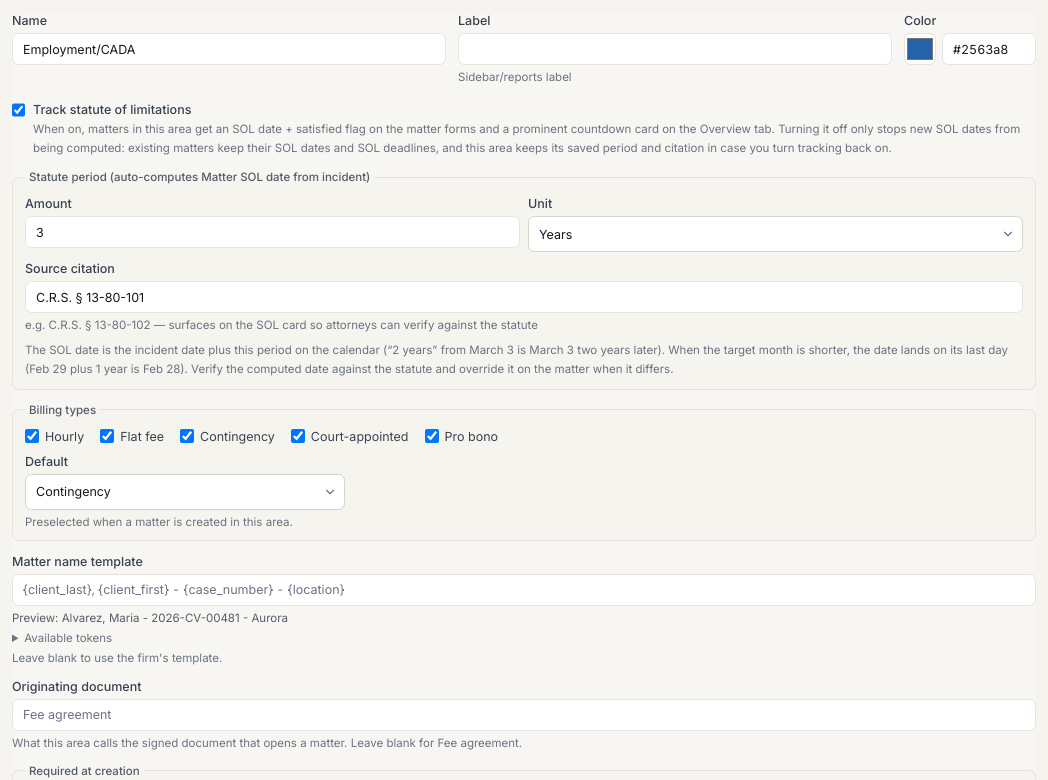
Test case: EditPracticeAreaForm billing types › unchecking the current default switches to the first remaining type
The image size is (1048, 780).
What coordinates should you click on to do the following:
click the checkbox labelled "Contingency"
I would click on:
 (187, 436)
Its box is [180,429,194,443].
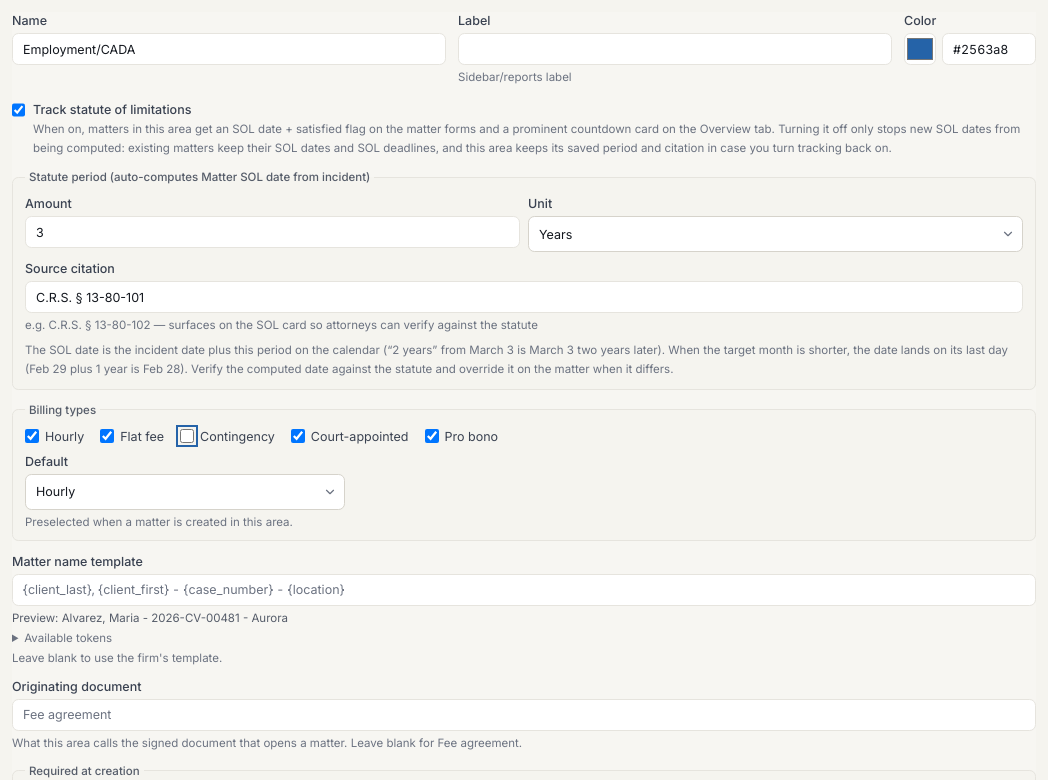
expect the dropdown named "defaultBillingType" shows "Hourly": met, box [25,474,345,510]
